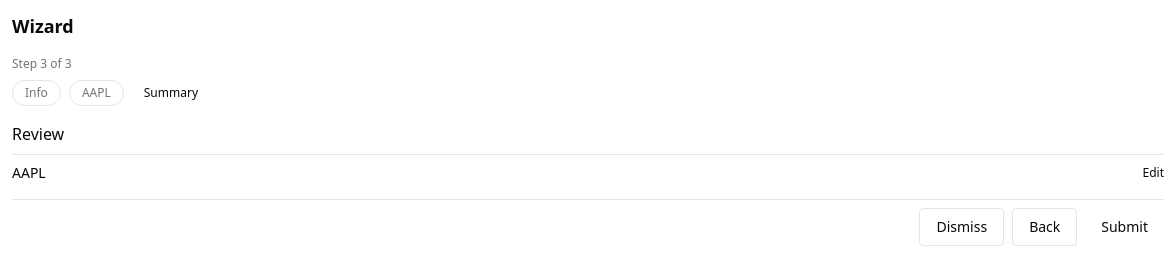
Scenario: Wizard summary entries › clicking the Edit affordance on a summary entry chip-jumps to that step
Expected: the text "Step 3 of 3" is shown, top-left (12, 55), bottom-right (72, 72)
Click the button with test id "wizard-summary-edit": (1153, 173) top-left (1142, 165), bottom-right (1164, 181)
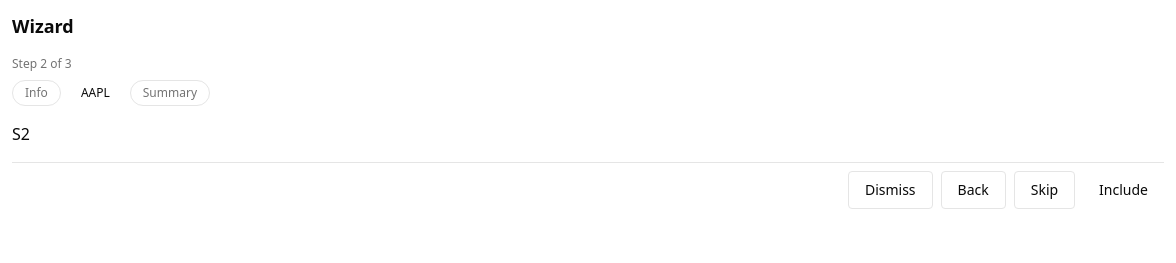
Result: the text "Step 2 of 3" is shown at top-left (12, 55), bottom-right (72, 72)
